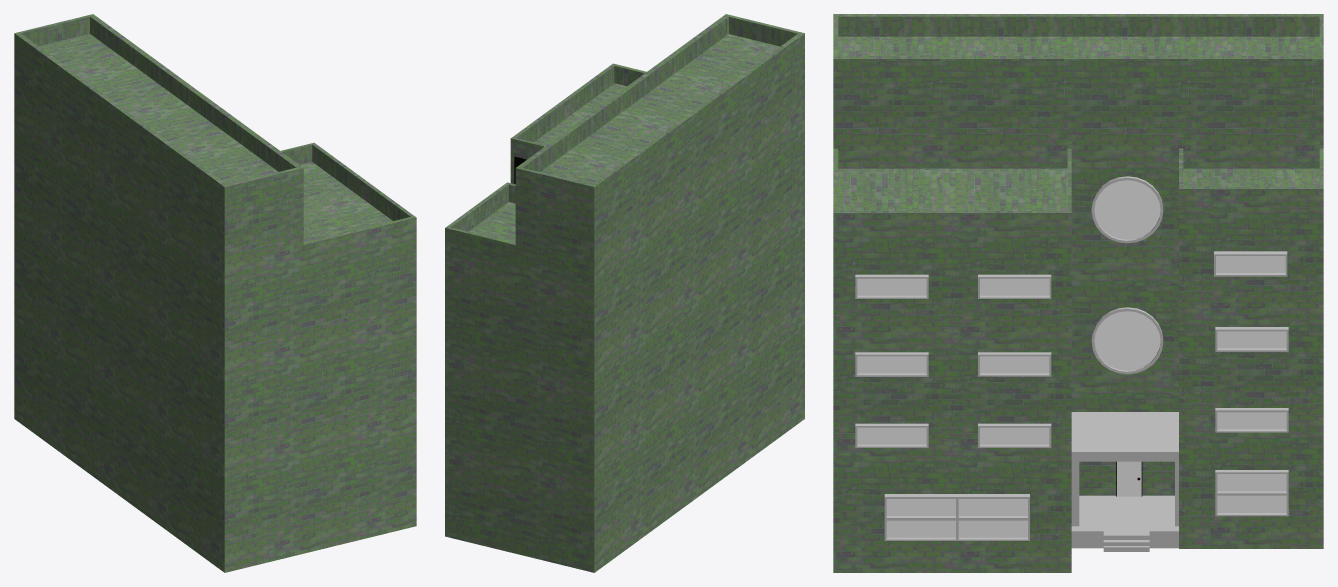
Rendered from Building_9_VAL.fbx.
3 views of the same model, side by side, from view 1: azimuth 30°, elevation 25°; view 2: azimuth 150°, elevation 25°; view 3: azimuth 270°, elevation 25° (orthographic). The views are drawn at different scales.
Visible parts, largest first — view 1: pCube4; view 2: pCube4; view 3: pCube4, pCube1, pCube2, pDisc1, pDisc2, window18, window26, window24, window, window12, window15, window17 (+9 smaller).
Part boxes in pixels (x1,y1,x2,y2): pCube4: (14,14,416,572); pCube4: (445,14,804,572); pCube4: (833,14,1323,572); pCube1: (1071,461,1178,551); pCube2: (1071,412,1178,461); pDisc1: (1091,176,1163,243); pDisc2: (1091,307,1163,374); window18: (1214,251,1287,276); window26: (884,494,957,519); window24: (956,494,1029,519); window: (855,274,928,298); window12: (855,352,928,376); window15: (855,423,928,447); window17: (978,352,1051,376).
Bounding box in the file's own units: 10.78 × 20.17 × 19.94.
